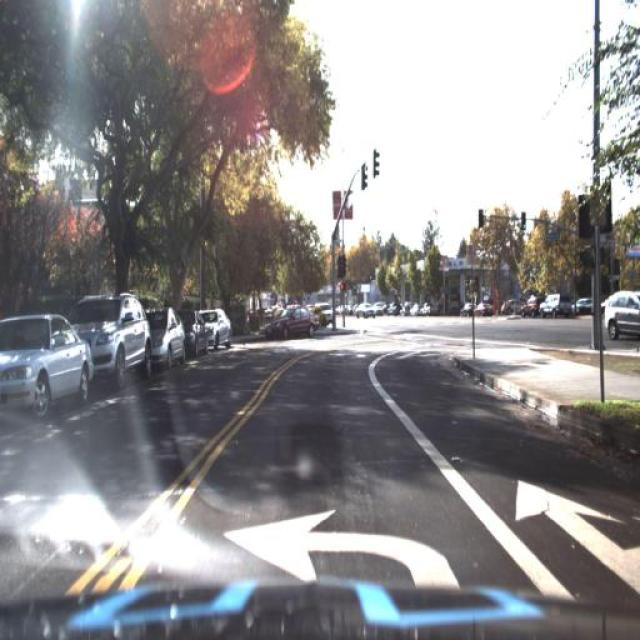car: (0, 309, 96, 422), (93, 287, 155, 389), (260, 298, 324, 346), (152, 305, 187, 373), (603, 288, 639, 341), (201, 306, 238, 352), (182, 305, 206, 360), (538, 291, 572, 320), (538, 292, 572, 317), (516, 292, 546, 320), (308, 296, 334, 325), (350, 298, 380, 322), (572, 294, 602, 314)
